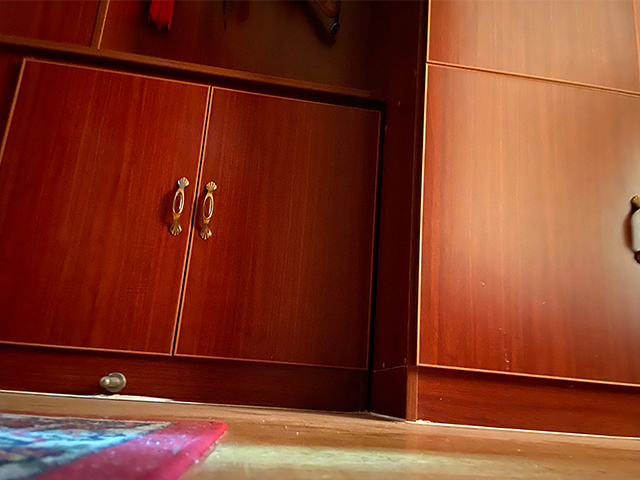cabinet: (1, 1, 640, 437)
carpet: (1, 408, 227, 480)
